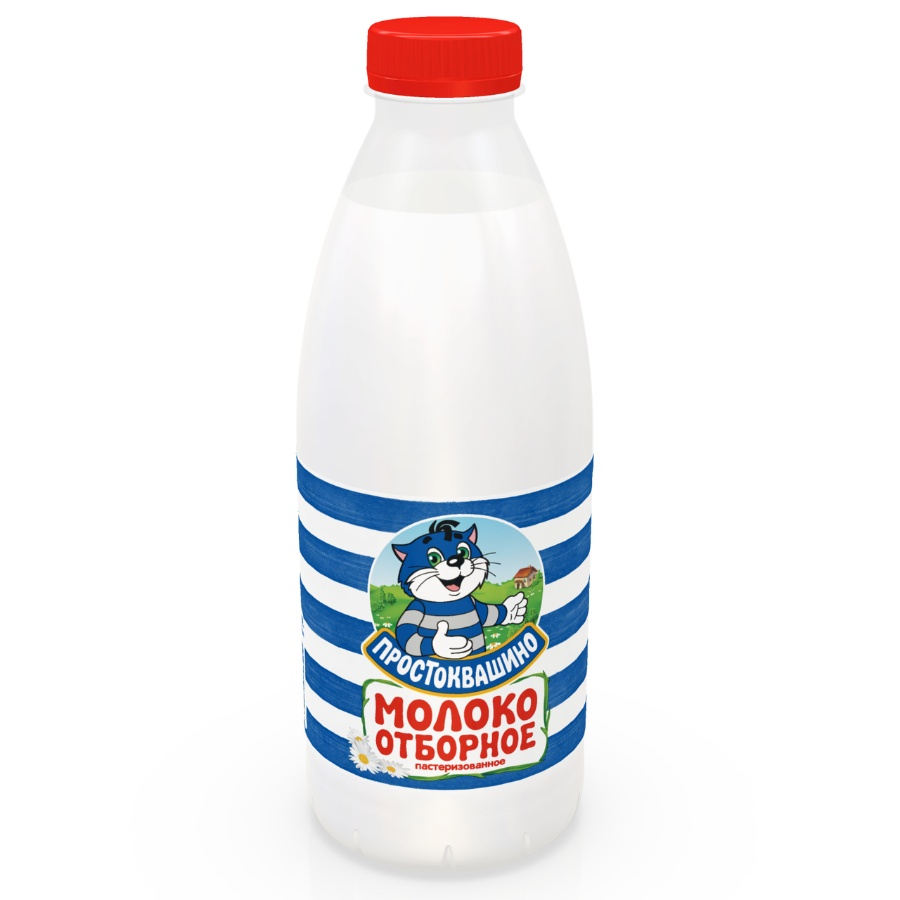milk: (246, 13, 663, 878)
